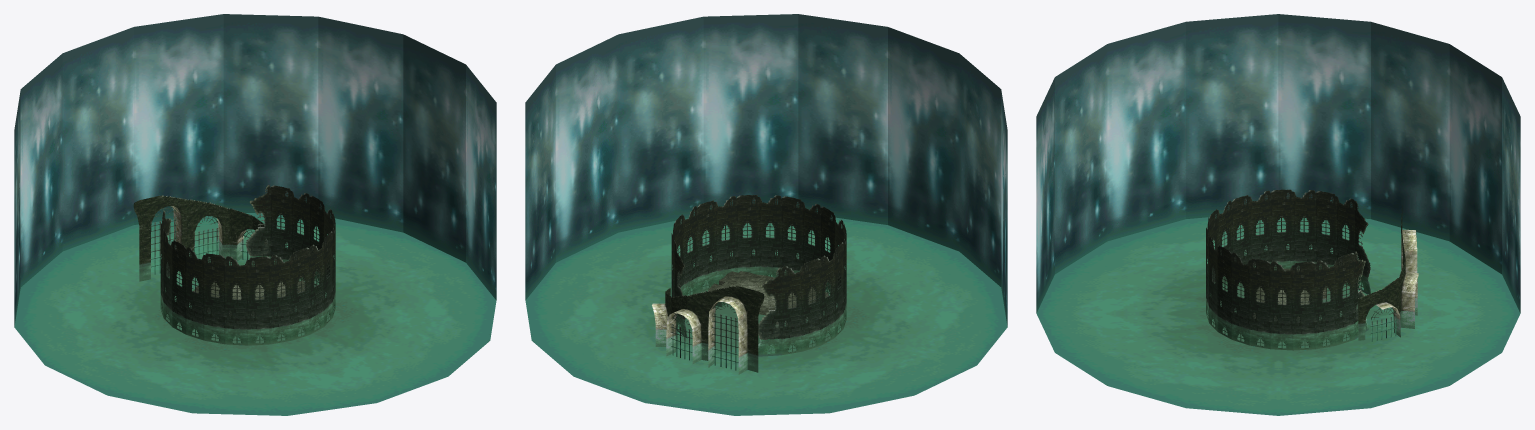
File: MemoriaOcean.glb
The picture shows the model from 3 angles, left to right: view 1: azimuth 30°, elevation 25°; view 2: azimuth 150°, elevation 25°; view 3: azimuth 270°, elevation 25°; orthographic projection.
Parts seen in each view (by area): view 1: Skybox, Walls, Ground; view 2: Skybox, Walls, Ground; view 3: Skybox, Walls, Ground.
Boxes of the visible parts, box(x1,y1,x2,y2) form: Skybox: box(14, 14, 496, 415); Walls: box(133, 185, 335, 345); Ground: box(193, 280, 313, 317); Skybox: box(525, 14, 1007, 415); Walls: box(652, 195, 846, 374); Ground: box(708, 271, 828, 327); Skybox: box(1036, 14, 1520, 415); Walls: box(1206, 189, 1418, 350); Ground: box(1253, 268, 1327, 322).
Bounding box in the file's own units: 250 × 113 × 250.
Materials: 14 (14 with a texture image).
